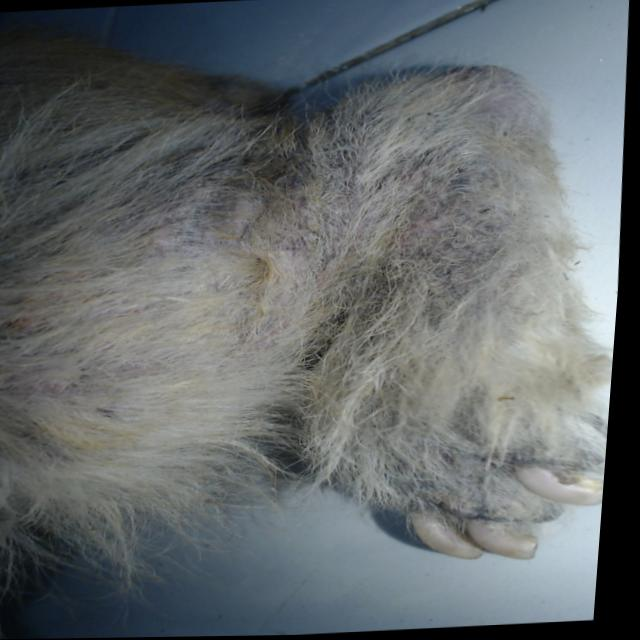demodicosis: (383, 110, 523, 304), (152, 135, 314, 273), (444, 475, 515, 514)
